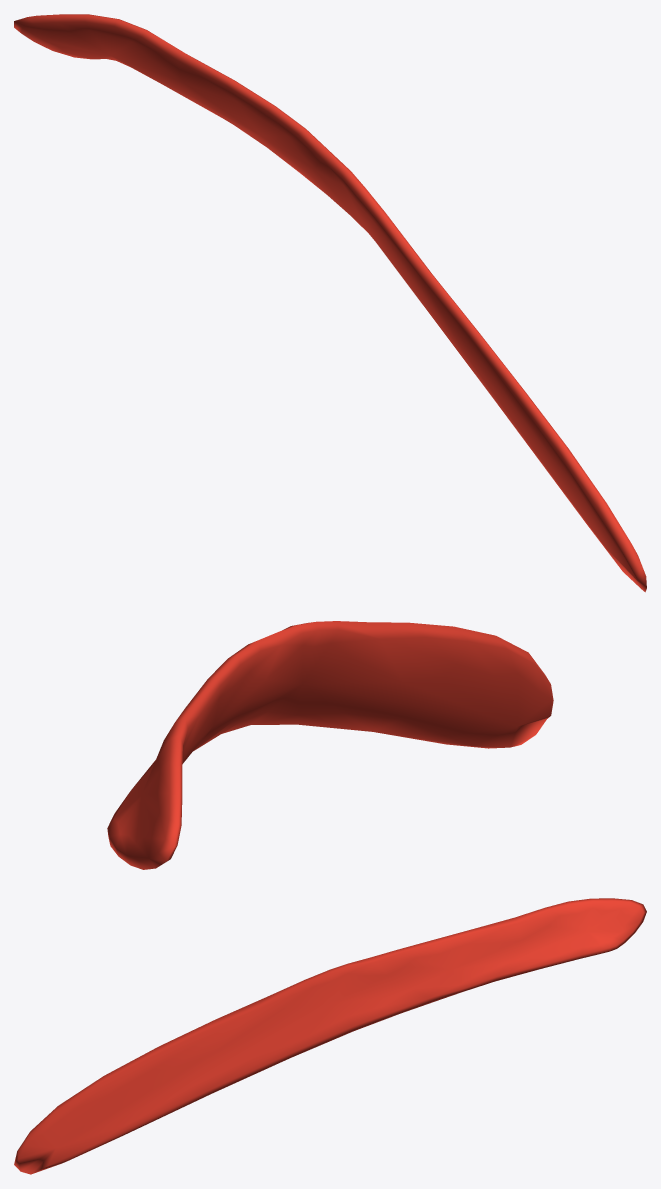
Rendered from Plantar_interossei_3rd_metatarsal_left.glb.
3 views of the same model, one above another, from view 1: azimuth 30°, elevation 25°; view 2: azimuth 150°, elevation 25°; view 3: azimuth 270°, elevation 25° (orthographic). The views are drawn at different scales.
Parts seen in each view (by area): view 1: Plantar_interossei_muscles_on_3rd_metatarsal_bone.l_Generate; view 2: Plantar_interossei_muscles_on_3rd_metatarsal_bone.l_Generate; view 3: Plantar_interossei_muscles_on_3rd_metatarsal_bone.l_Generate.
Boxes of the visible parts, x1=… form: Plantar_interossei_muscles_on_3rd_metatarsal_bone.l_Generate: x1=14, y1=14, x2=646, y2=592; Plantar_interossei_muscles_on_3rd_metatarsal_bone.l_Generate: x1=107, y1=621, x2=553, y2=869; Plantar_interossei_muscles_on_3rd_metatarsal_bone.l_Generate: x1=14, y1=898, x2=646, y2=1174.
Size of the model in its own units: 0.00708 by 0.0114 by 0.029.
